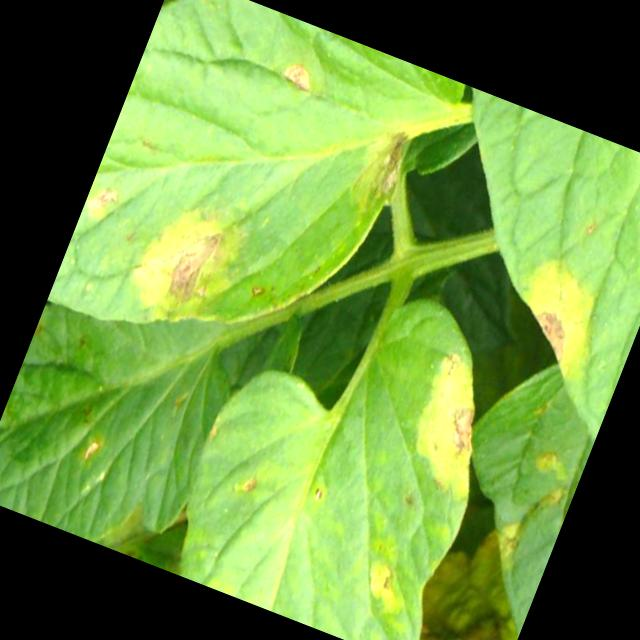Early_blight: (124, 200, 243, 329), (505, 299, 576, 365), (358, 125, 415, 207), (434, 401, 488, 468), (358, 562, 406, 610), (274, 57, 319, 96), (84, 178, 125, 219), (486, 523, 524, 564), (433, 347, 465, 382)
